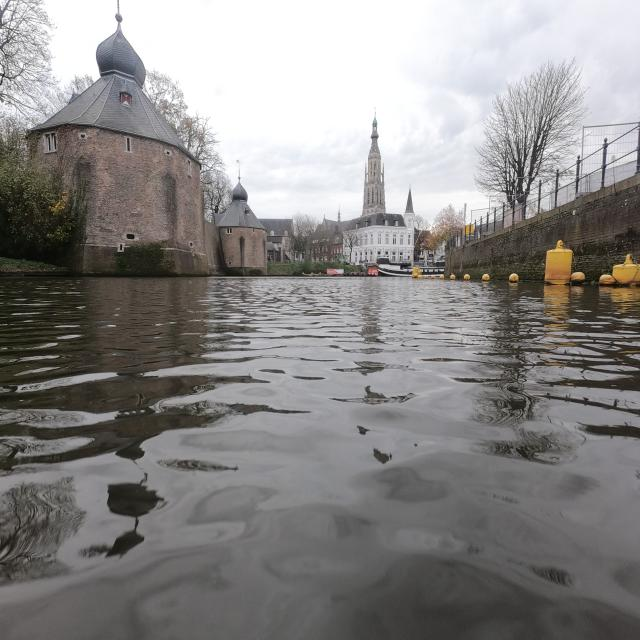grass: (0, 257, 69, 277)
sky: (120, 0, 640, 220), (45, 0, 116, 86)
tree: (0, 124, 86, 265)
wall: (28, 13, 267, 275), (445, 174, 640, 281)
water: (0, 277, 640, 638)
